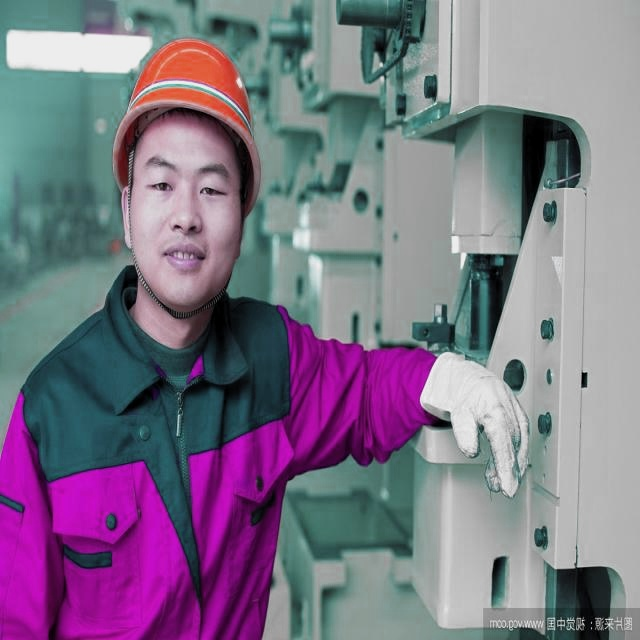Con_Casco: (116, 37, 256, 311)
Sin_Chaleco: (44, 302, 292, 640)
